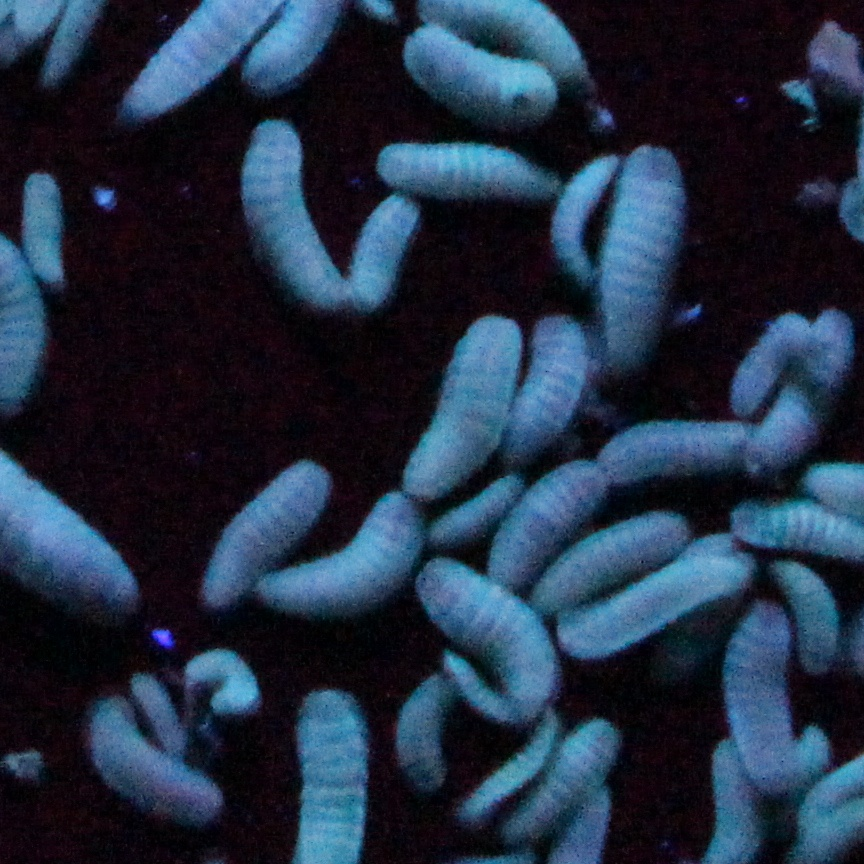larve: (242, 120, 364, 335), (251, 486, 435, 622), (418, 556, 562, 716), (68, 689, 229, 831), (395, 316, 520, 495), (713, 606, 831, 791), (602, 138, 686, 366), (200, 453, 326, 602), (527, 509, 687, 624), (569, 556, 746, 658), (397, 24, 558, 136), (498, 706, 620, 846), (478, 311, 597, 451), (489, 455, 598, 591), (375, 135, 569, 209), (442, 711, 562, 818), (593, 415, 767, 484), (538, 158, 617, 276), (422, 475, 522, 555), (769, 566, 842, 673), (351, 193, 418, 309), (17, 166, 77, 289), (182, 636, 262, 726), (402, 658, 453, 791), (737, 315, 809, 409)
